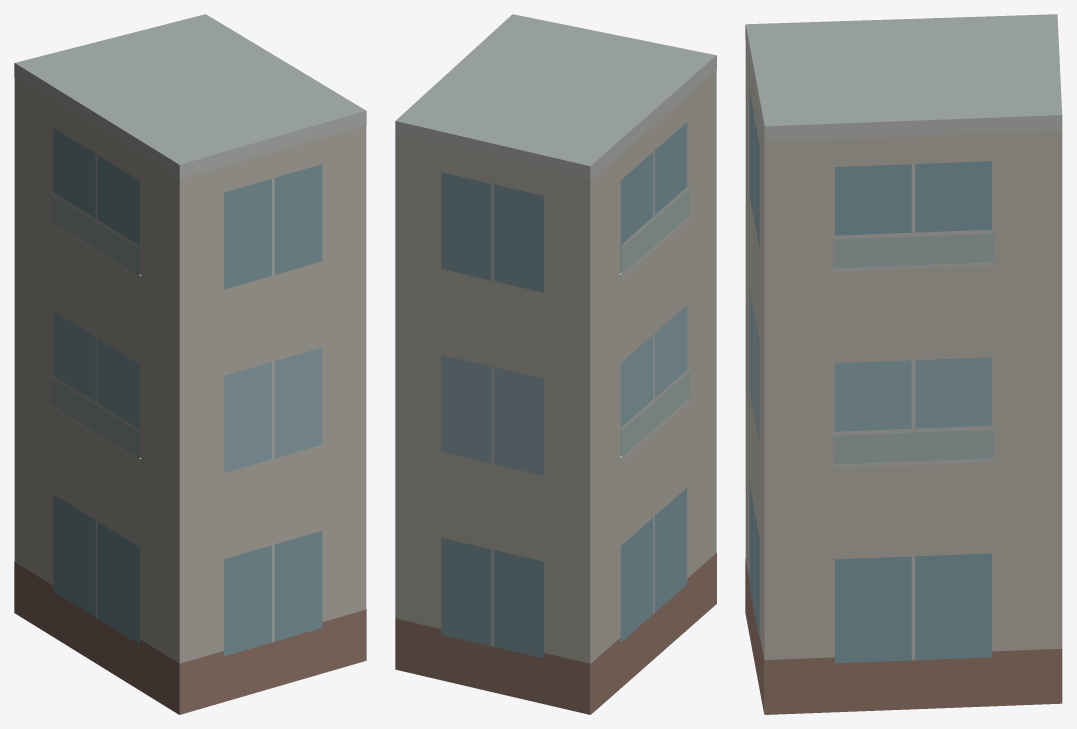
The model's file is survey-upis-32528009.glb.
3 views of the same model, side by side, from view 1: azimuth 30°, elevation 25°; view 2: azimuth 150°, elevation 25°; view 3: azimuth 270°, elevation 25° (orthographic). The views are drawn at different scales.
Parts seen in each view (by area): view 1: survey-upis-32528009.tmp; view 2: survey-upis-32528009.tmp; view 3: survey-upis-32528009.tmp.
Boxes of the visible parts, x1,y1,x2,y2 form: survey-upis-32528009.tmp: [14, 14, 366, 714]; survey-upis-32528009.tmp: [395, 14, 716, 714]; survey-upis-32528009.tmp: [745, 14, 1062, 714].
Size of the model in its own units: 3.75 by 9.15 by 4.47.
